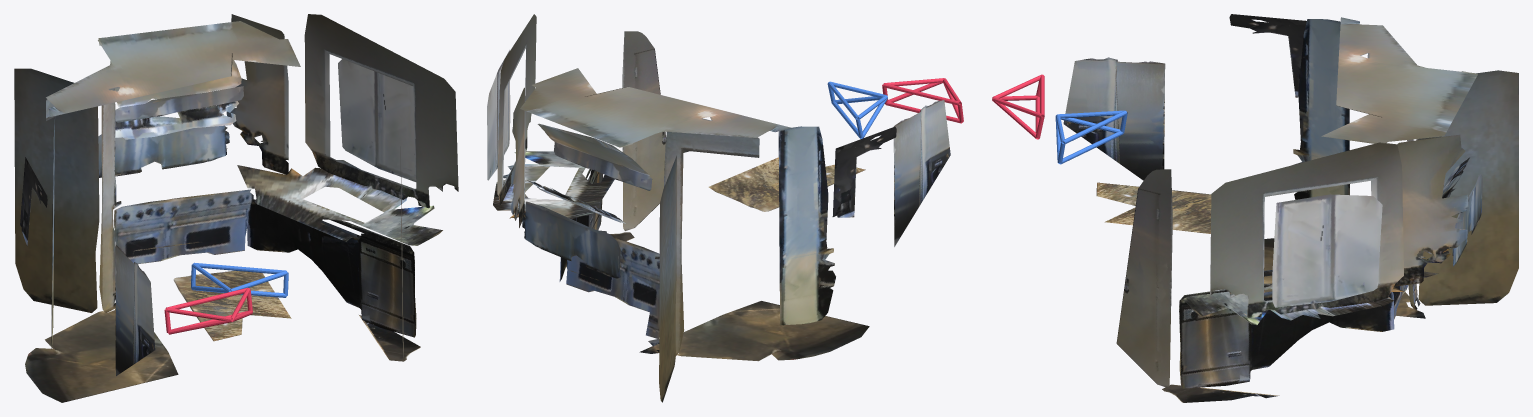
3 renders of one model, left to right at view 1: azimuth 30°, elevation 25°; view 2: azimuth 150°, elevation 25°; view 3: azimuth 270°, elevation 25°, orthographic. The views are drawn at different scales.
Visible parts, largest first — view 1: Node; view 2: Node; view 3: Node.
Part boxes in pixels (x1,y1,x2,y2): Node: (14, 14, 458, 402); Node: (487, 14, 963, 402); Node: (992, 14, 1518, 402).
Bounding box in the file's own units: 3.93 × 2.56 × 4.47.
29 materials, 27 textured.
